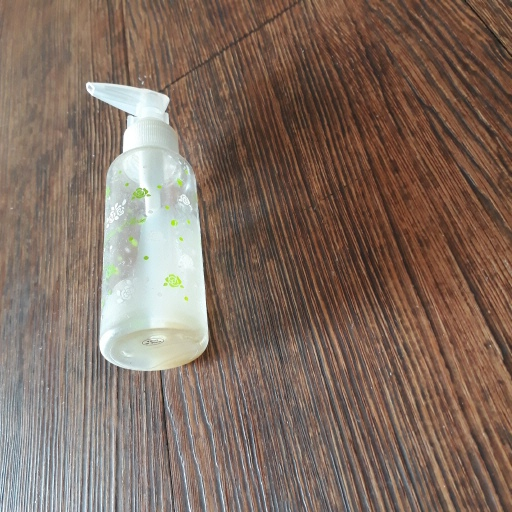Plastic_3: (85, 80, 212, 367)
